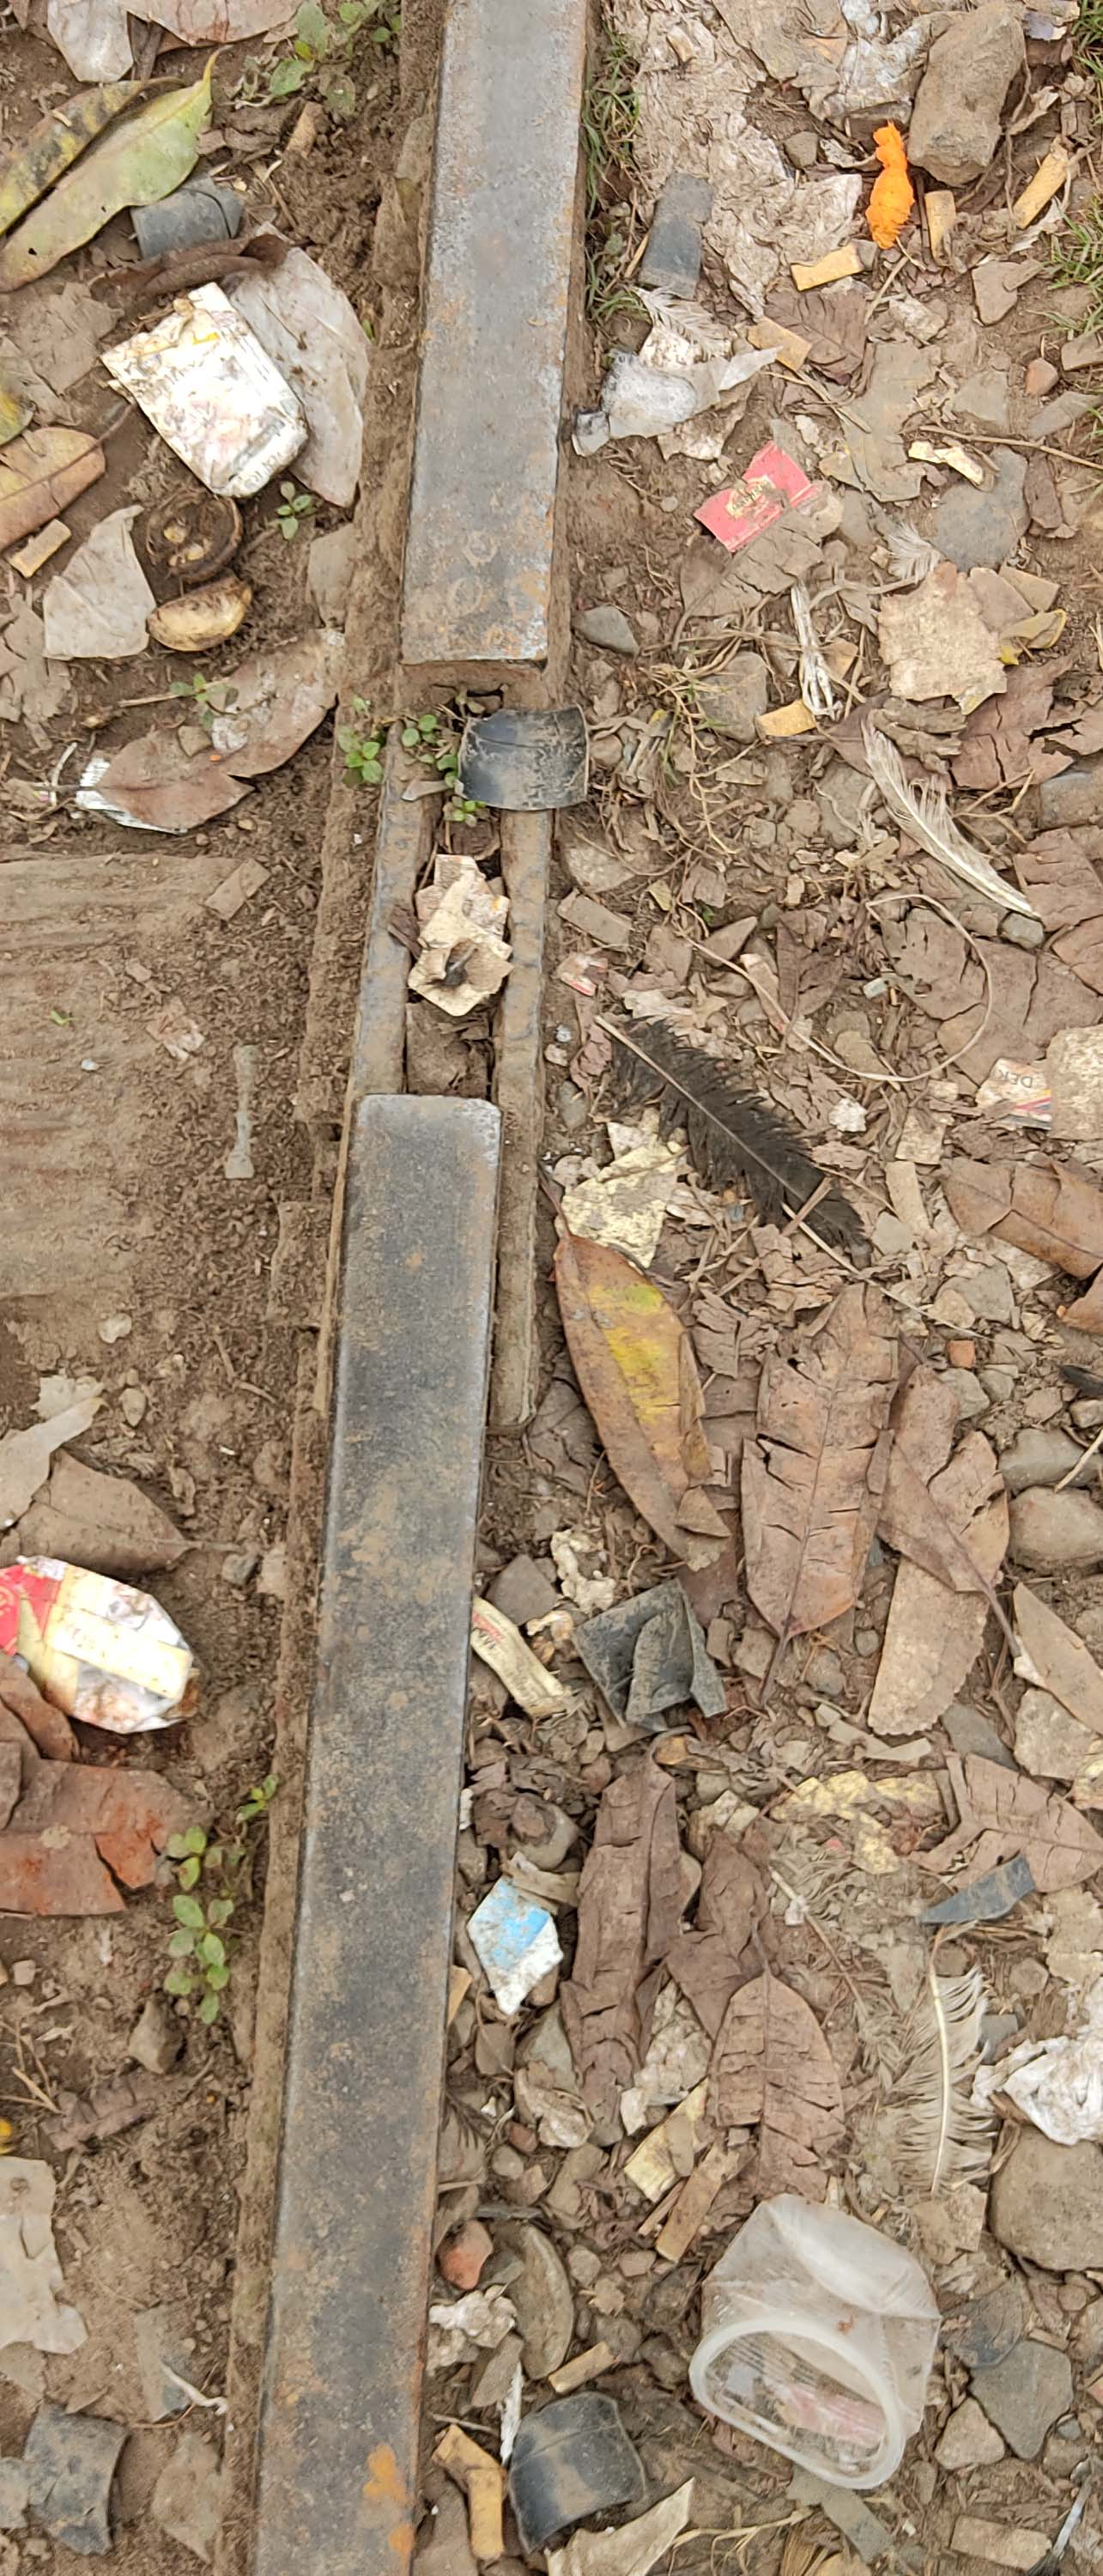error2: (330, 601, 606, 1157)
